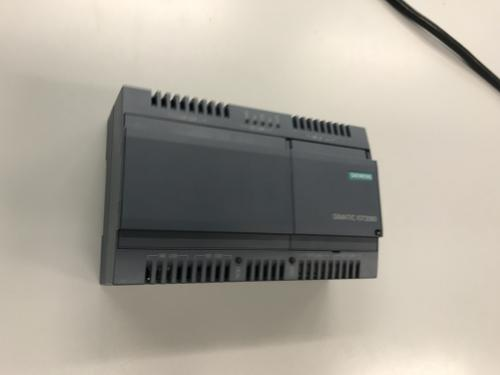device: (99, 85, 384, 287)
